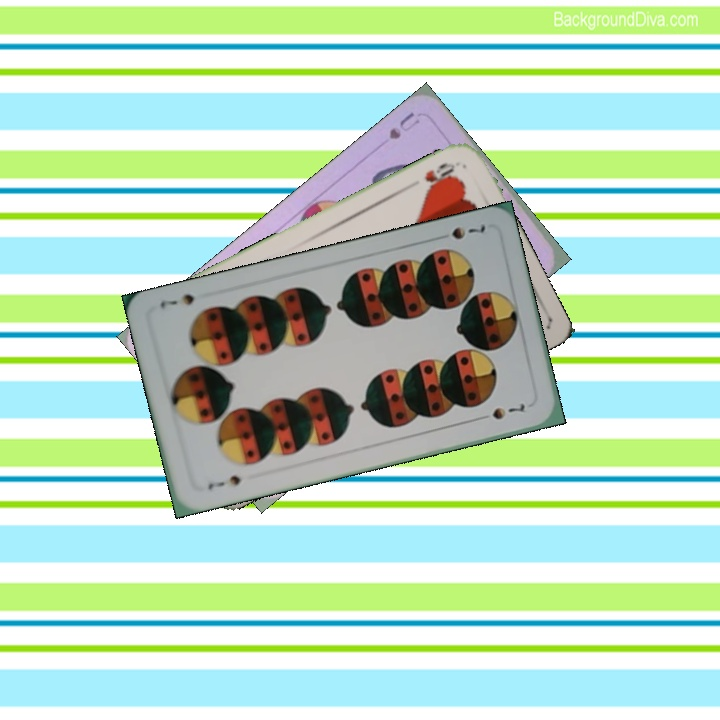HO: (420, 158, 460, 194)
S7: (203, 471, 243, 493), (447, 221, 488, 242)
SU: (384, 108, 423, 142)
